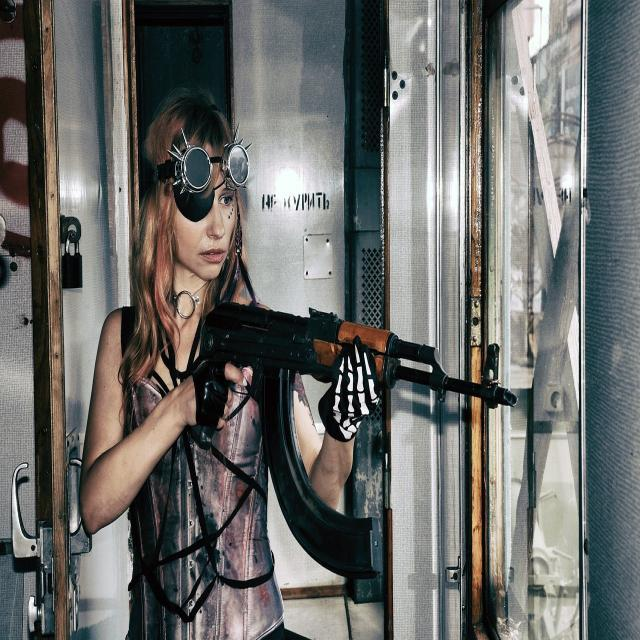Gun: (200, 302, 516, 578)
